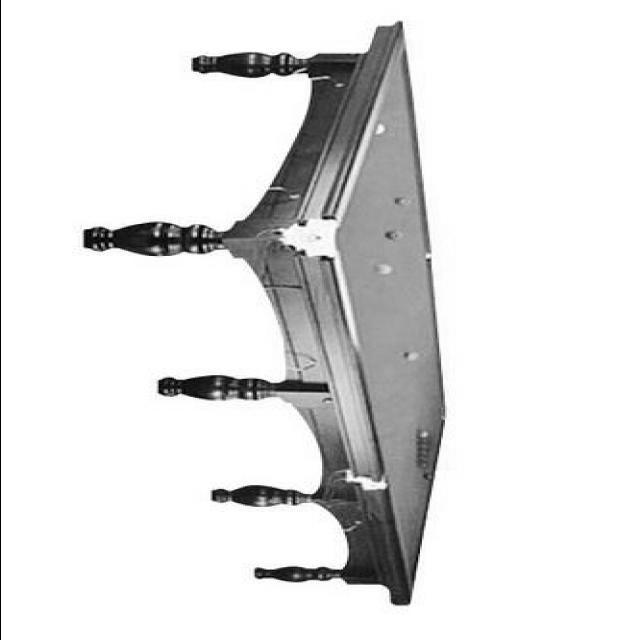table: (77, 20, 449, 608)
